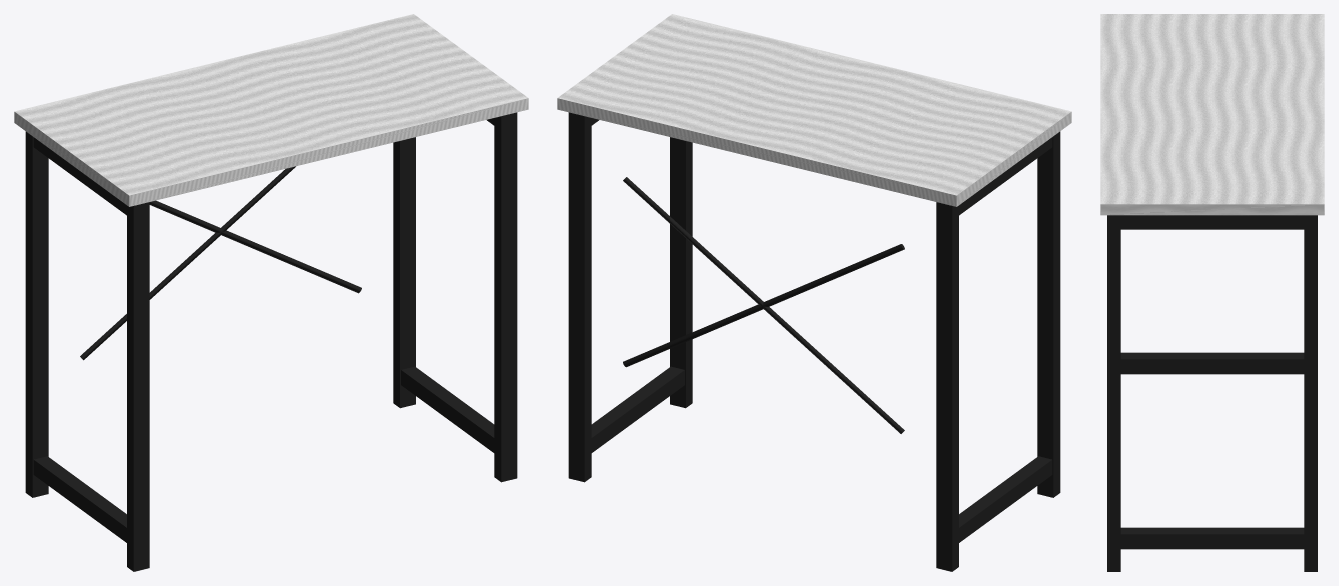
3 renders of one model, left to right at view 1: azimuth 30°, elevation 25°; view 2: azimuth 150°, elevation 25°; view 3: azimuth 270°, elevation 25°, orthographic. The views are drawn at different scales.
Parts seen in each view (by area): view 1: 1 tabletop, 3 front_right_leg, 2 front_left_leg, 4 back_left_leg, 5 back_right_leg, 7 right_bottom_stretcher, 6 left_bottom_stretcher, 11 x_brace_rod_2, 10 x_brace_rod_1, 8 left_top_stretcher; view 2: 1 tabletop, 5 back_right_leg, 4 back_left_leg, 2 front_left_leg, 3 front_right_leg, 7 right_bottom_stretcher, 6 left_bottom_stretcher, 10 x_brace_rod_1, 11 x_brace_rod_2, 8 left_top_stretcher; view 3: 1 tabletop, 3 front_right_leg, 5 back_right_leg, 6 left_bottom_stretcher, 7 right_bottom_stretcher, 9 right_top_stretcher.
Boxes of the visible parts, left/top/right/bottom form: 1 tabletop: left=14, top=14, right=528, bottom=206; 3 front_right_leg: left=494, top=112, right=517, bottom=482; 2 front_left_leg: left=127, top=202, right=149, bottom=571; 4 back_left_leg: left=25, top=131, right=48, bottom=497; 5 back_right_leg: left=393, top=137, right=415, bottom=408; 7 right_bottom_stretcher: left=401, top=366, right=494, bottom=452; 6 left_bottom_stretcher: left=33, top=456, right=126, bottom=542; 11 x_brace_rod_2: left=149, top=200, right=361, bottom=293; 10 x_brace_rod_1: left=80, top=166, right=295, bottom=360; 8 left_top_stretcher: left=33, top=137, right=126, bottom=215; 1 tabletop: left=557, top=14, right=1071, bottom=206; 5 back_right_leg: left=568, top=112, right=591, bottom=482; 4 back_left_leg: left=936, top=202, right=958, bottom=571; 2 front_left_leg: left=1037, top=131, right=1060, bottom=497; 3 front_right_leg: left=670, top=137, right=692, bottom=408; 7 right_bottom_stretcher: left=591, top=366, right=684, bottom=452; 6 left_bottom_stretcher: left=959, top=456, right=1052, bottom=542; 10 x_brace_rod_1: left=623, top=177, right=904, bottom=433; 11 x_brace_rod_2: left=623, top=244, right=904, bottom=367; 8 left_top_stretcher: left=959, top=137, right=1052, bottom=215; 1 tabletop: left=1100, top=14, right=1324, bottom=215; 3 front_right_leg: left=1107, top=215, right=1120, bottom=571; 5 back_right_leg: left=1304, top=215, right=1317, bottom=571; 6 left_bottom_stretcher: left=1120, top=352, right=1304, bottom=374; 7 right_bottom_stretcher: left=1120, top=527, right=1304, bottom=549; 9 right_top_stretcher: left=1120, top=215, right=1304, bottom=229.
Size of the model in its own units: 0.8001 by 0.729 by 0.3988.
Materials: 2 (1 with a texture image).
